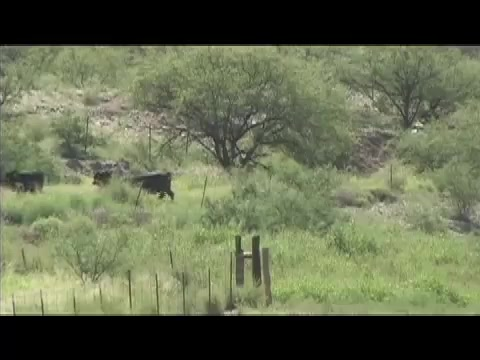cow: (131, 171, 180, 201), (4, 170, 47, 196), (91, 172, 117, 191)
